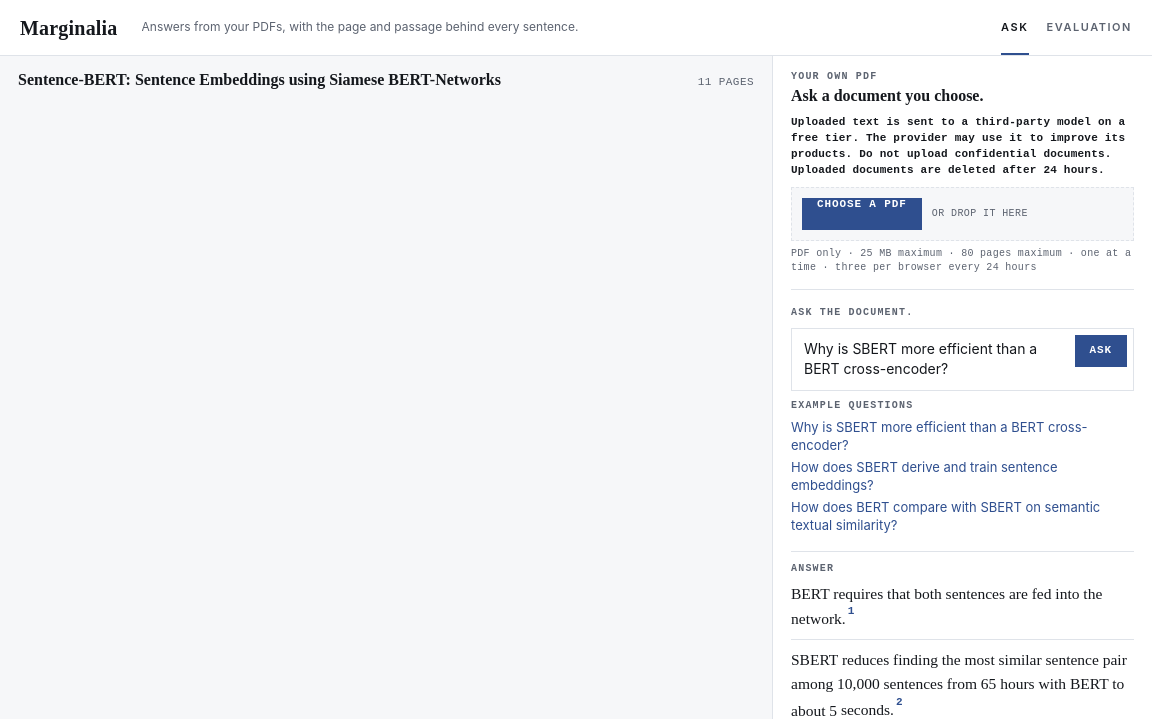
Test: real-paper demo › offers three example questions and answers each without the API
This screenshot has width=1152, height=719.
Click the 1st button with test id "example-question": coordinates (962, 436) [791,416,1134,456]
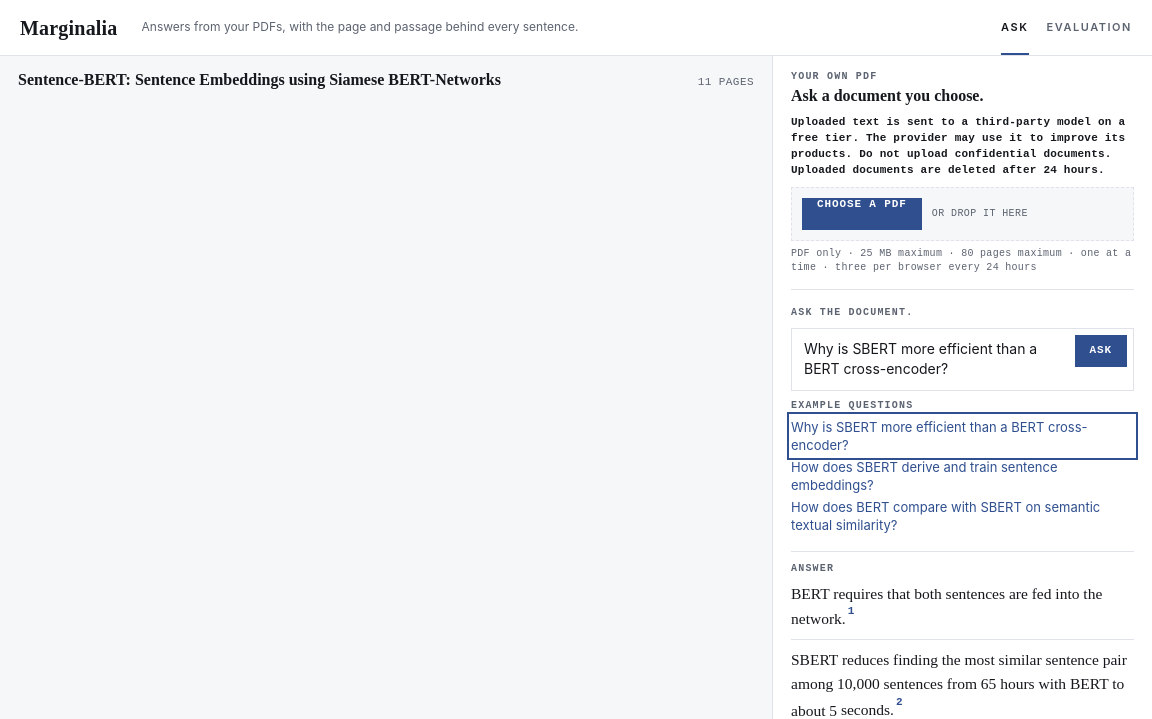
expect the text box named "Question" holds "Why is SBERT more efficient than a BERT cross-encoder?": met, box [798,334,1068,384]
Click the 2nd button with test id "example-question": coordinates (962, 476) [791,456,1134,496]
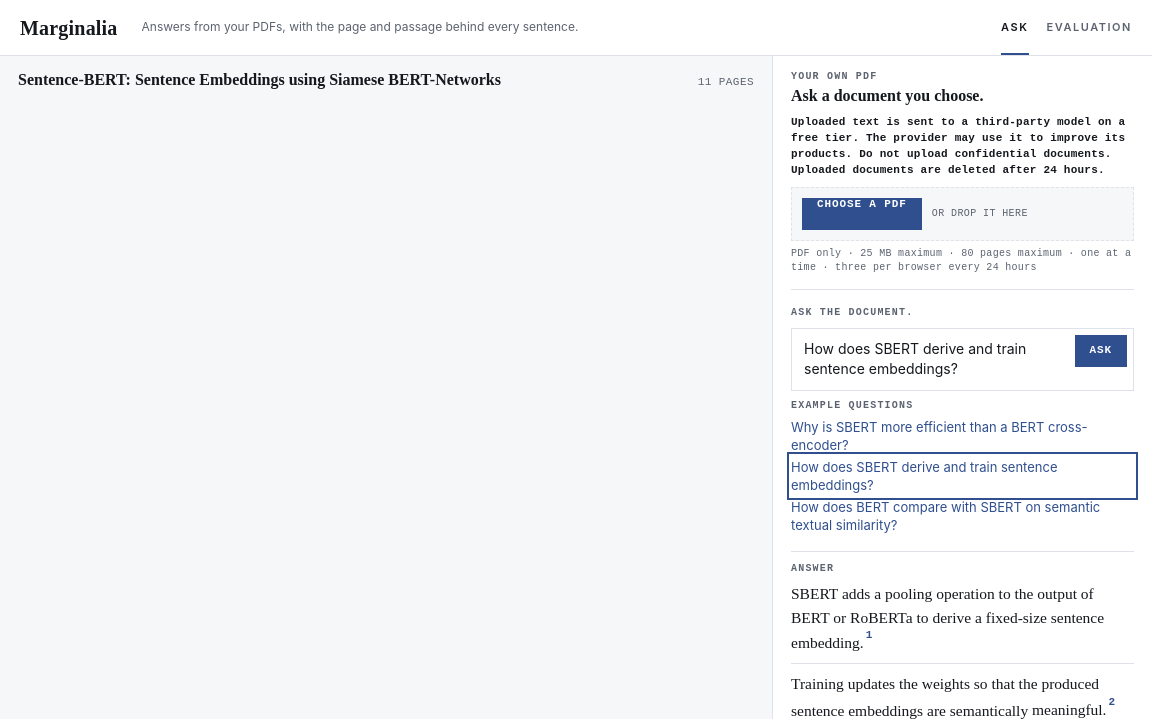
expect the text box named "Question" holds "How does SBERT derive and train sentence embeddings?": met, box [798,334,1068,384]
Click the 3rd button with test id "example-question": coordinates (962, 516) [791,496,1134,537]
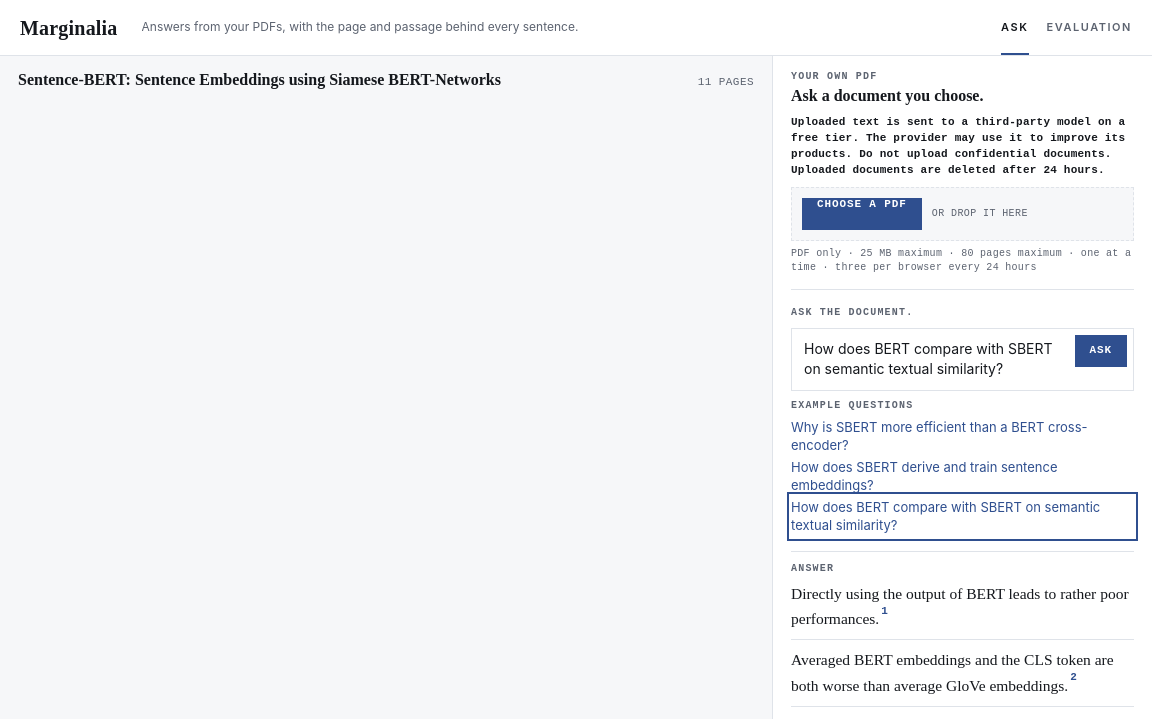
expect the text box named "Question" holds "How does BERT compare with SBERT on semantic textual similarity?": met, box [798,334,1068,384]
